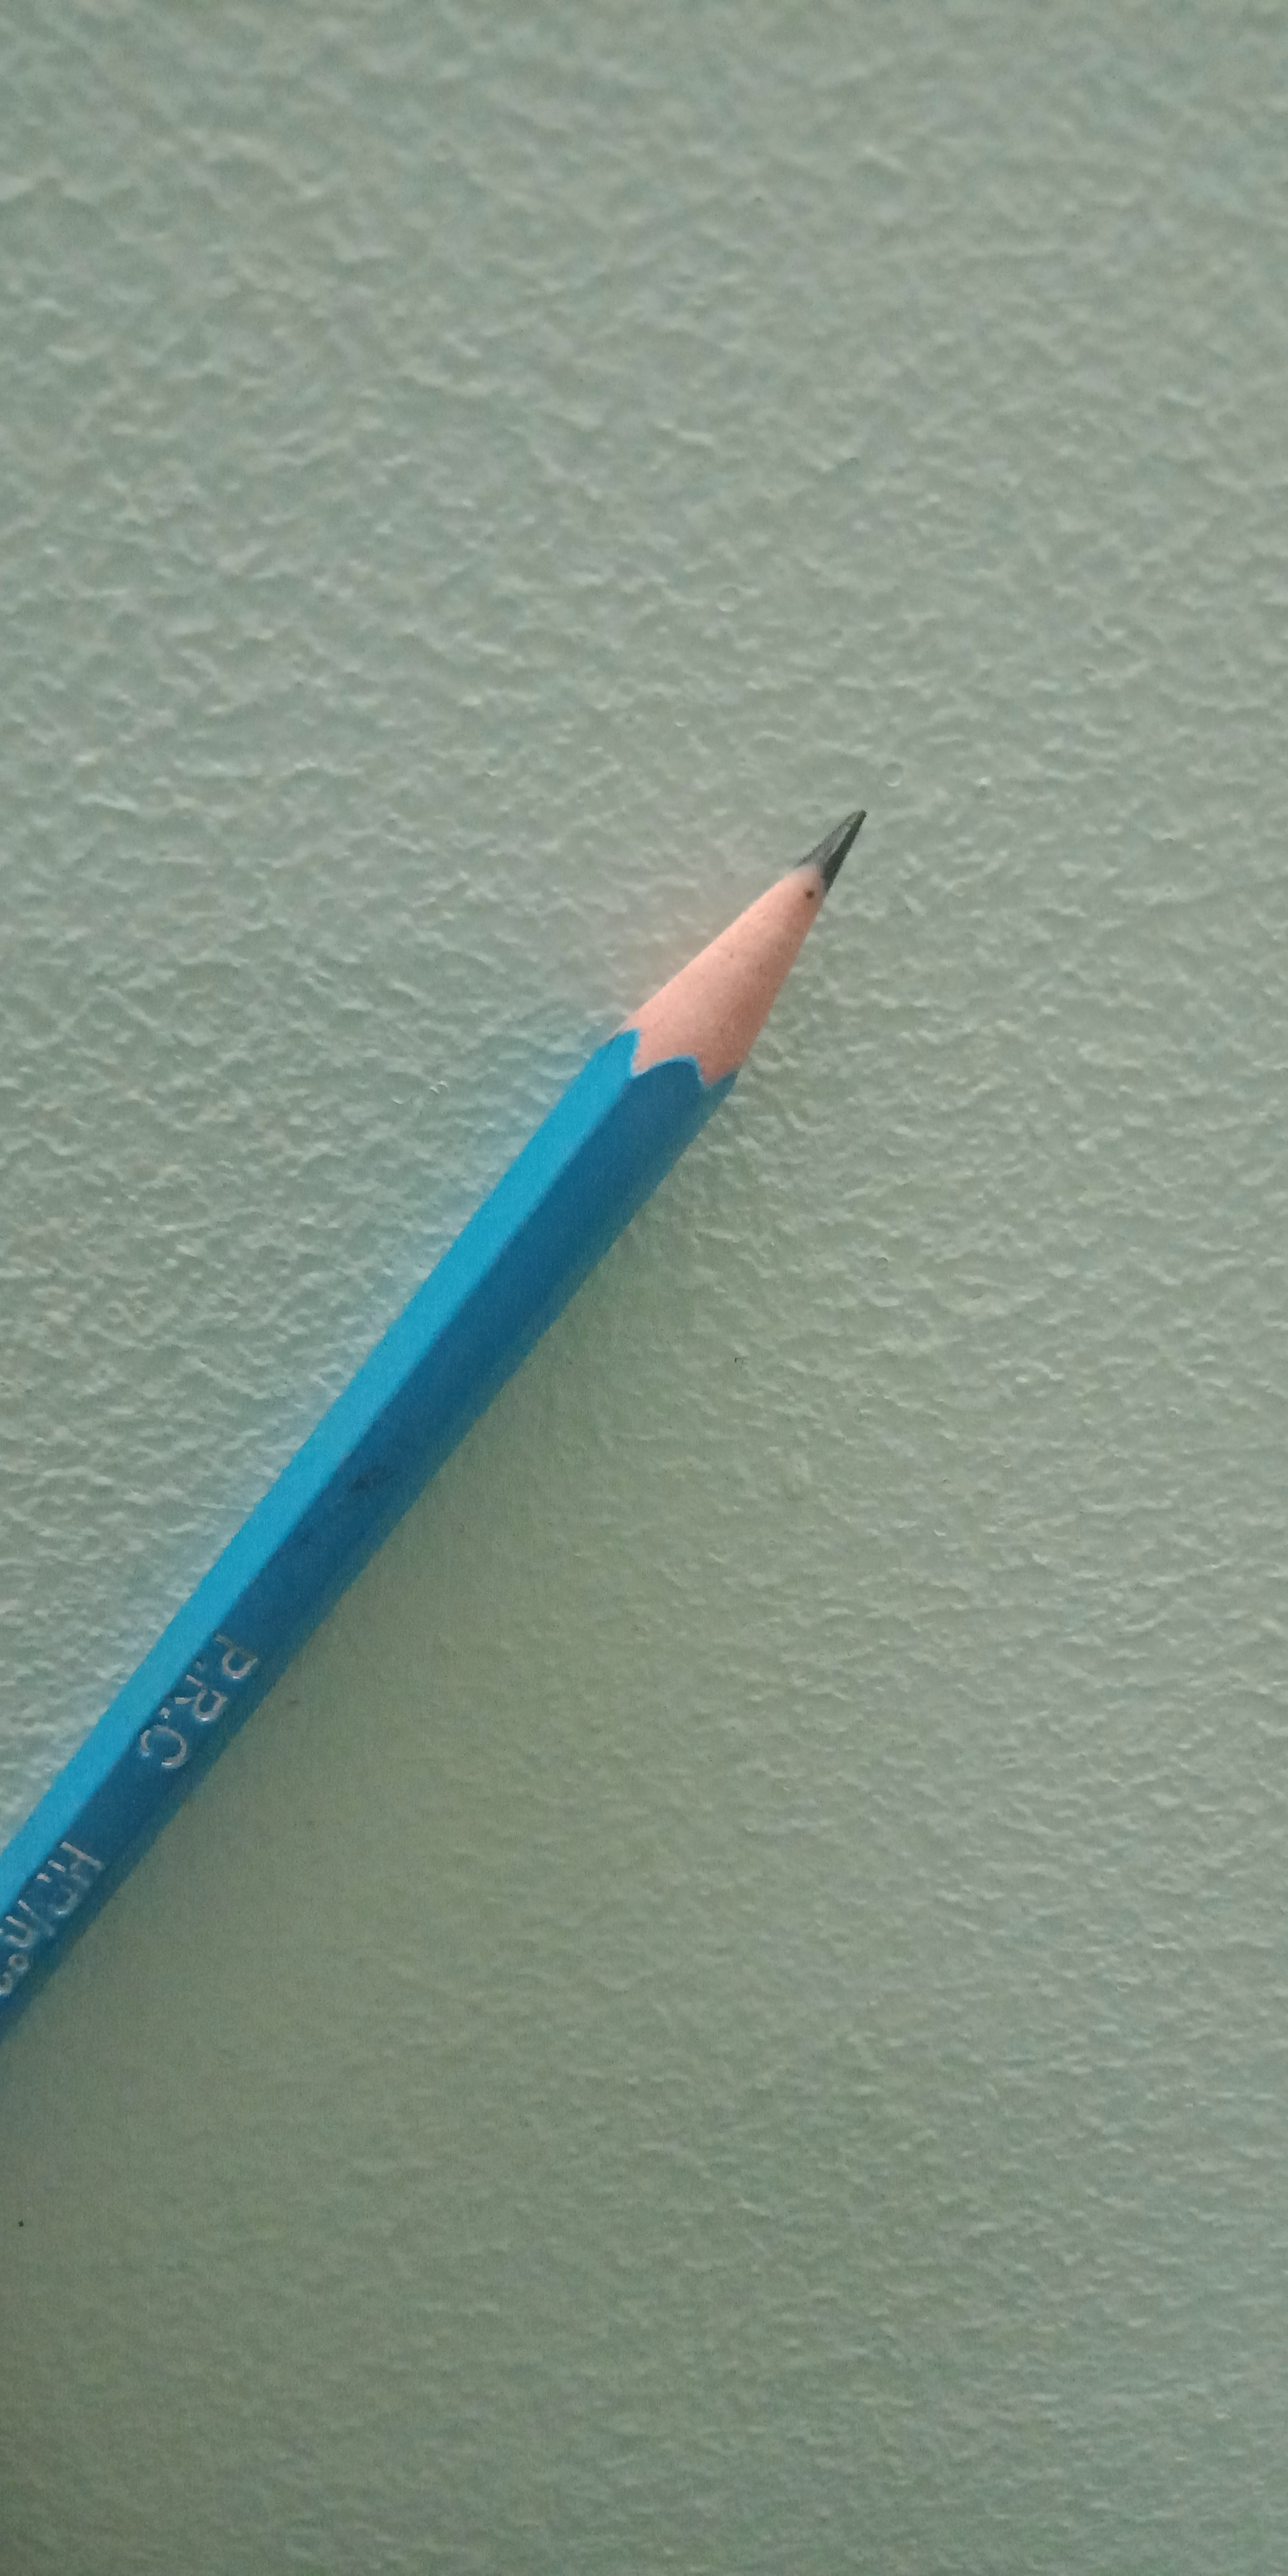pen_tip: (560, 690, 958, 1184)
